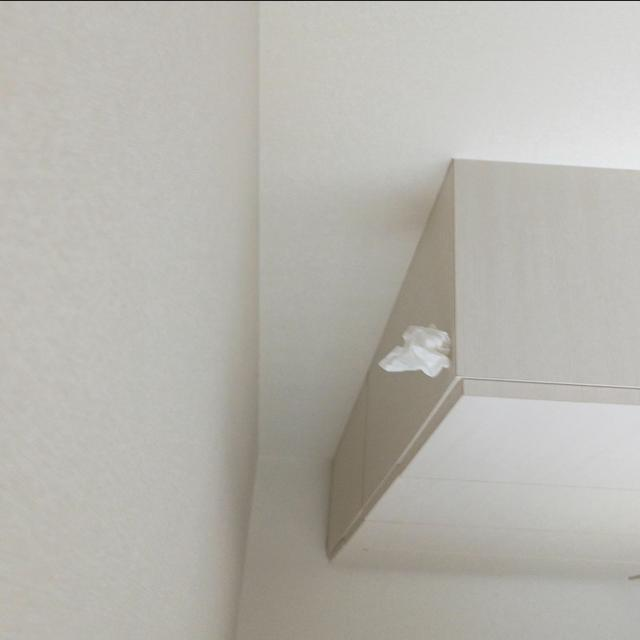Paper: (376, 318, 456, 378)
